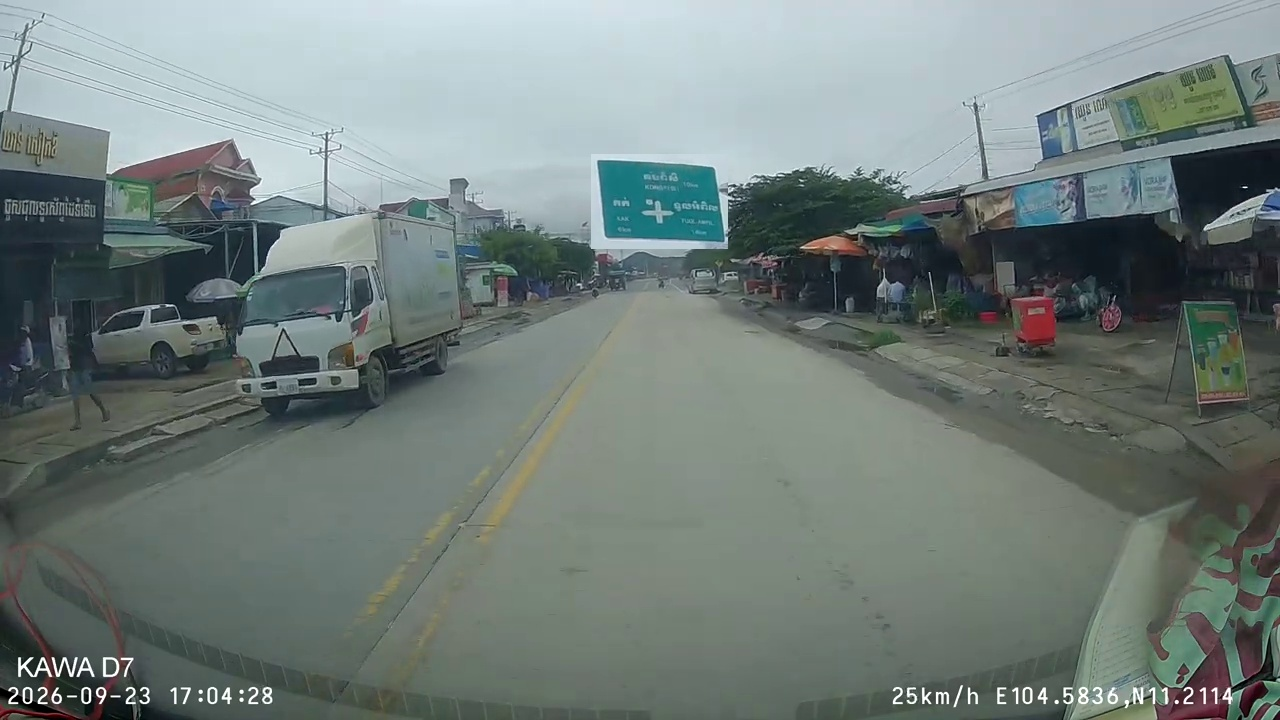direction_sign: (591, 154, 728, 249)
